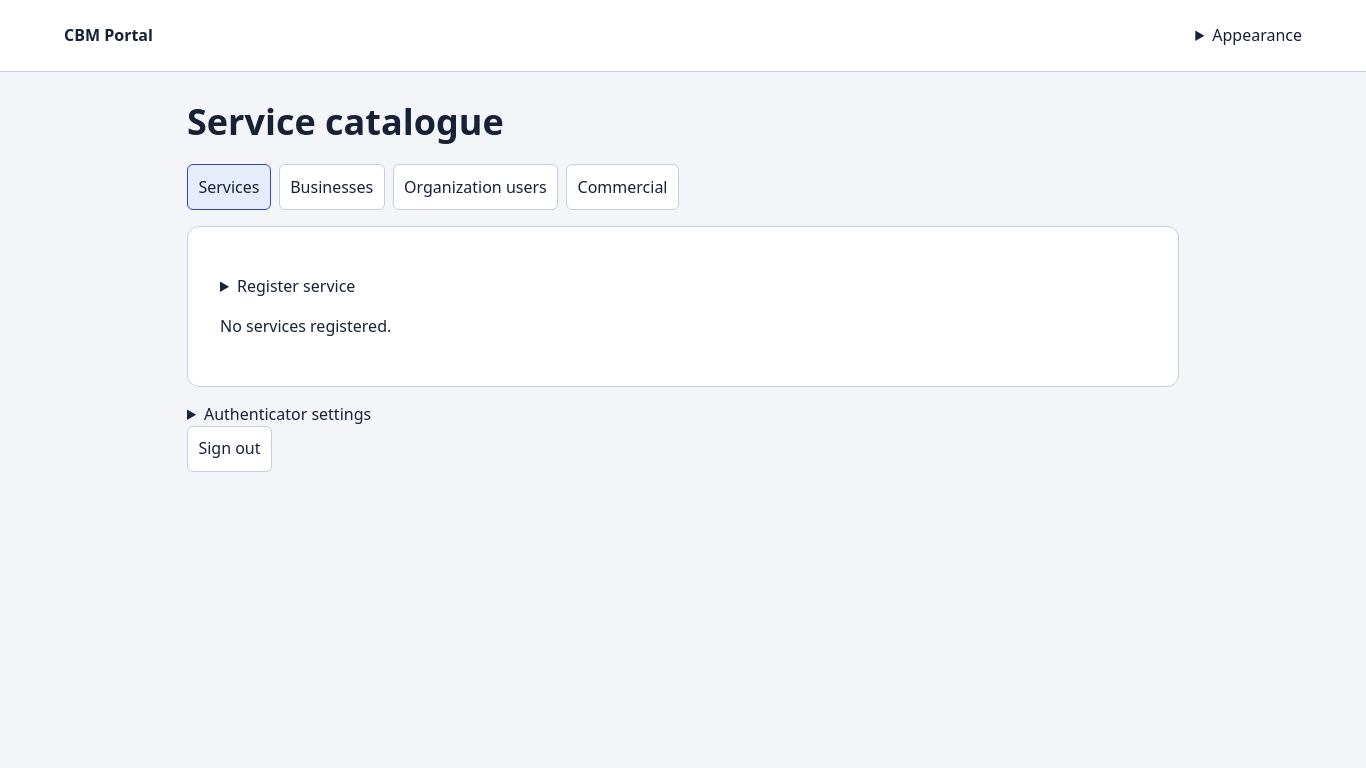
Test case: reports an unavailable business directory
The width and height of the screenshot is (1366, 768).
Click the button "Businesses" at [332, 187], box [279,164,385,210]
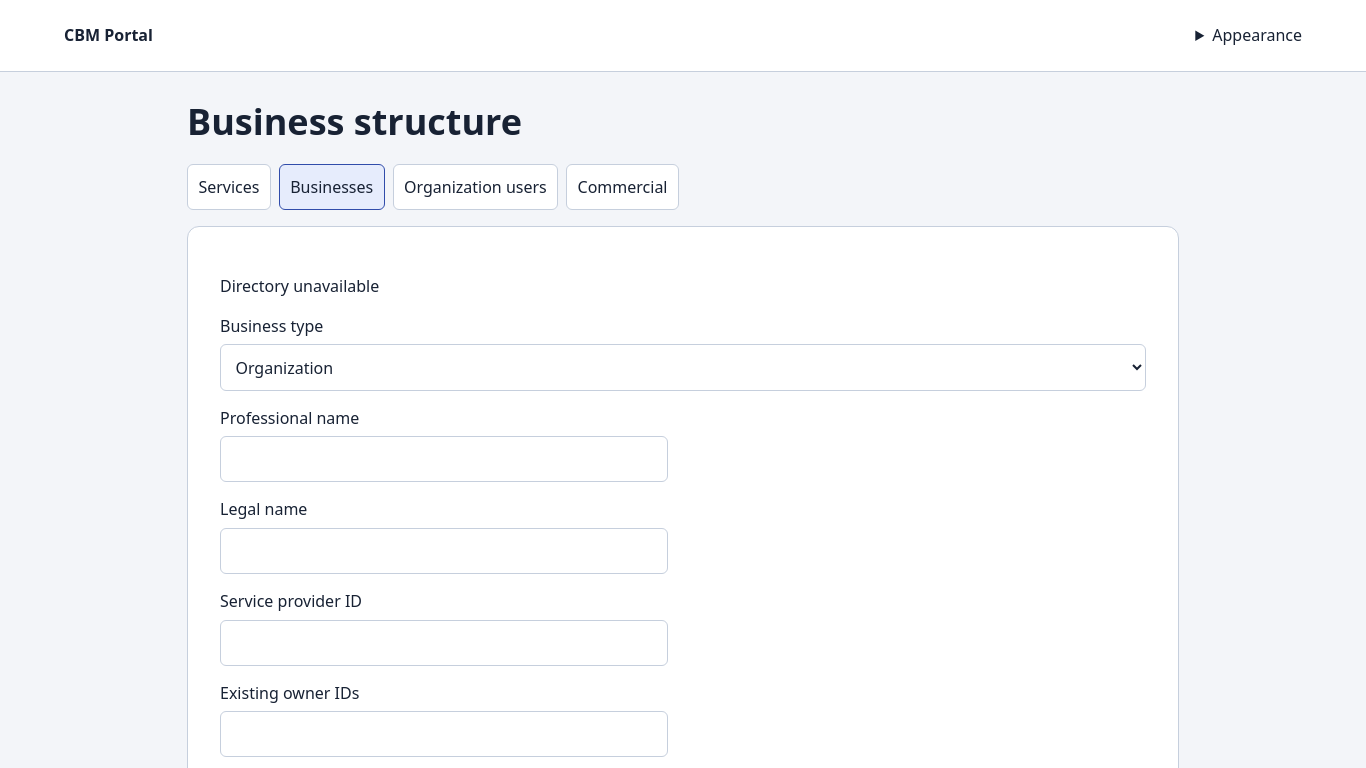
Expected: the text "Directory unavailable" is shown, [220,275,379,297]
